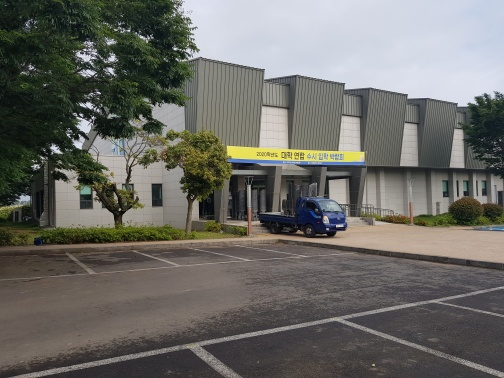Gym: (45, 43, 499, 227), (191, 55, 461, 153), (196, 163, 372, 197)
